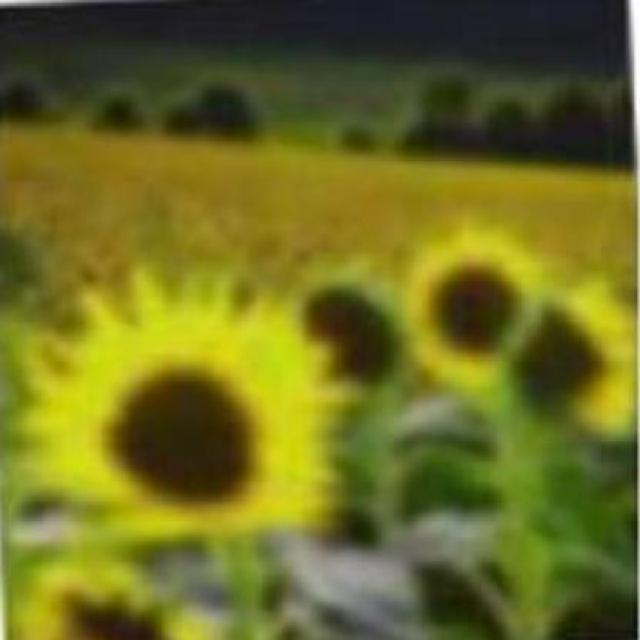sunflower: (26, 281, 337, 547), (398, 221, 540, 392)
